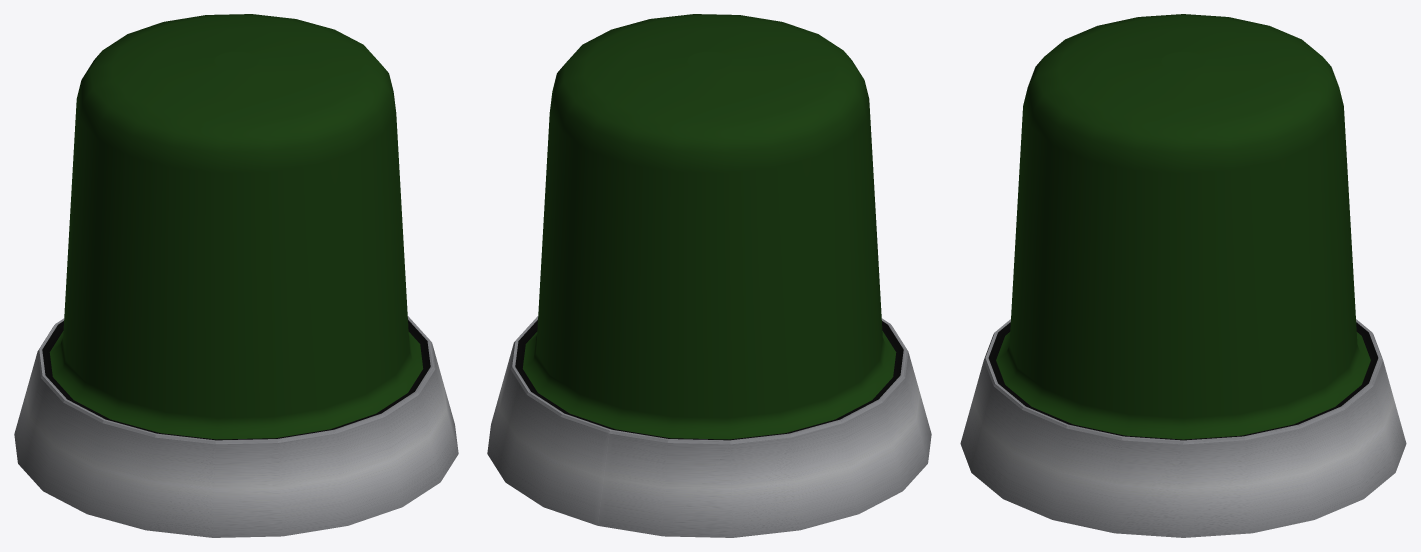
File: Industrialist Braking Light.fbx
The picture shows the model from 3 angles, left to right: view 1: azimuth 30°, elevation 25°; view 2: azimuth 150°, elevation 25°; view 3: azimuth 270°, elevation 25°; orthographic projection.
Parts seen in each view (by area): view 1: Industrialist_Braking_Light; view 2: Industrialist_Braking_Light; view 3: Industrialist_Braking_Light.
Part boxes in pixels (x1,y1,x2,y2): Industrialist_Braking_Light: (14, 14, 458, 537); Industrialist_Braking_Light: (487, 14, 931, 537); Industrialist_Braking_Light: (960, 14, 1406, 537).
Size of the model in its own units: 4.33 by 4.09 by 4.33.
4 materials, 2 textured.
